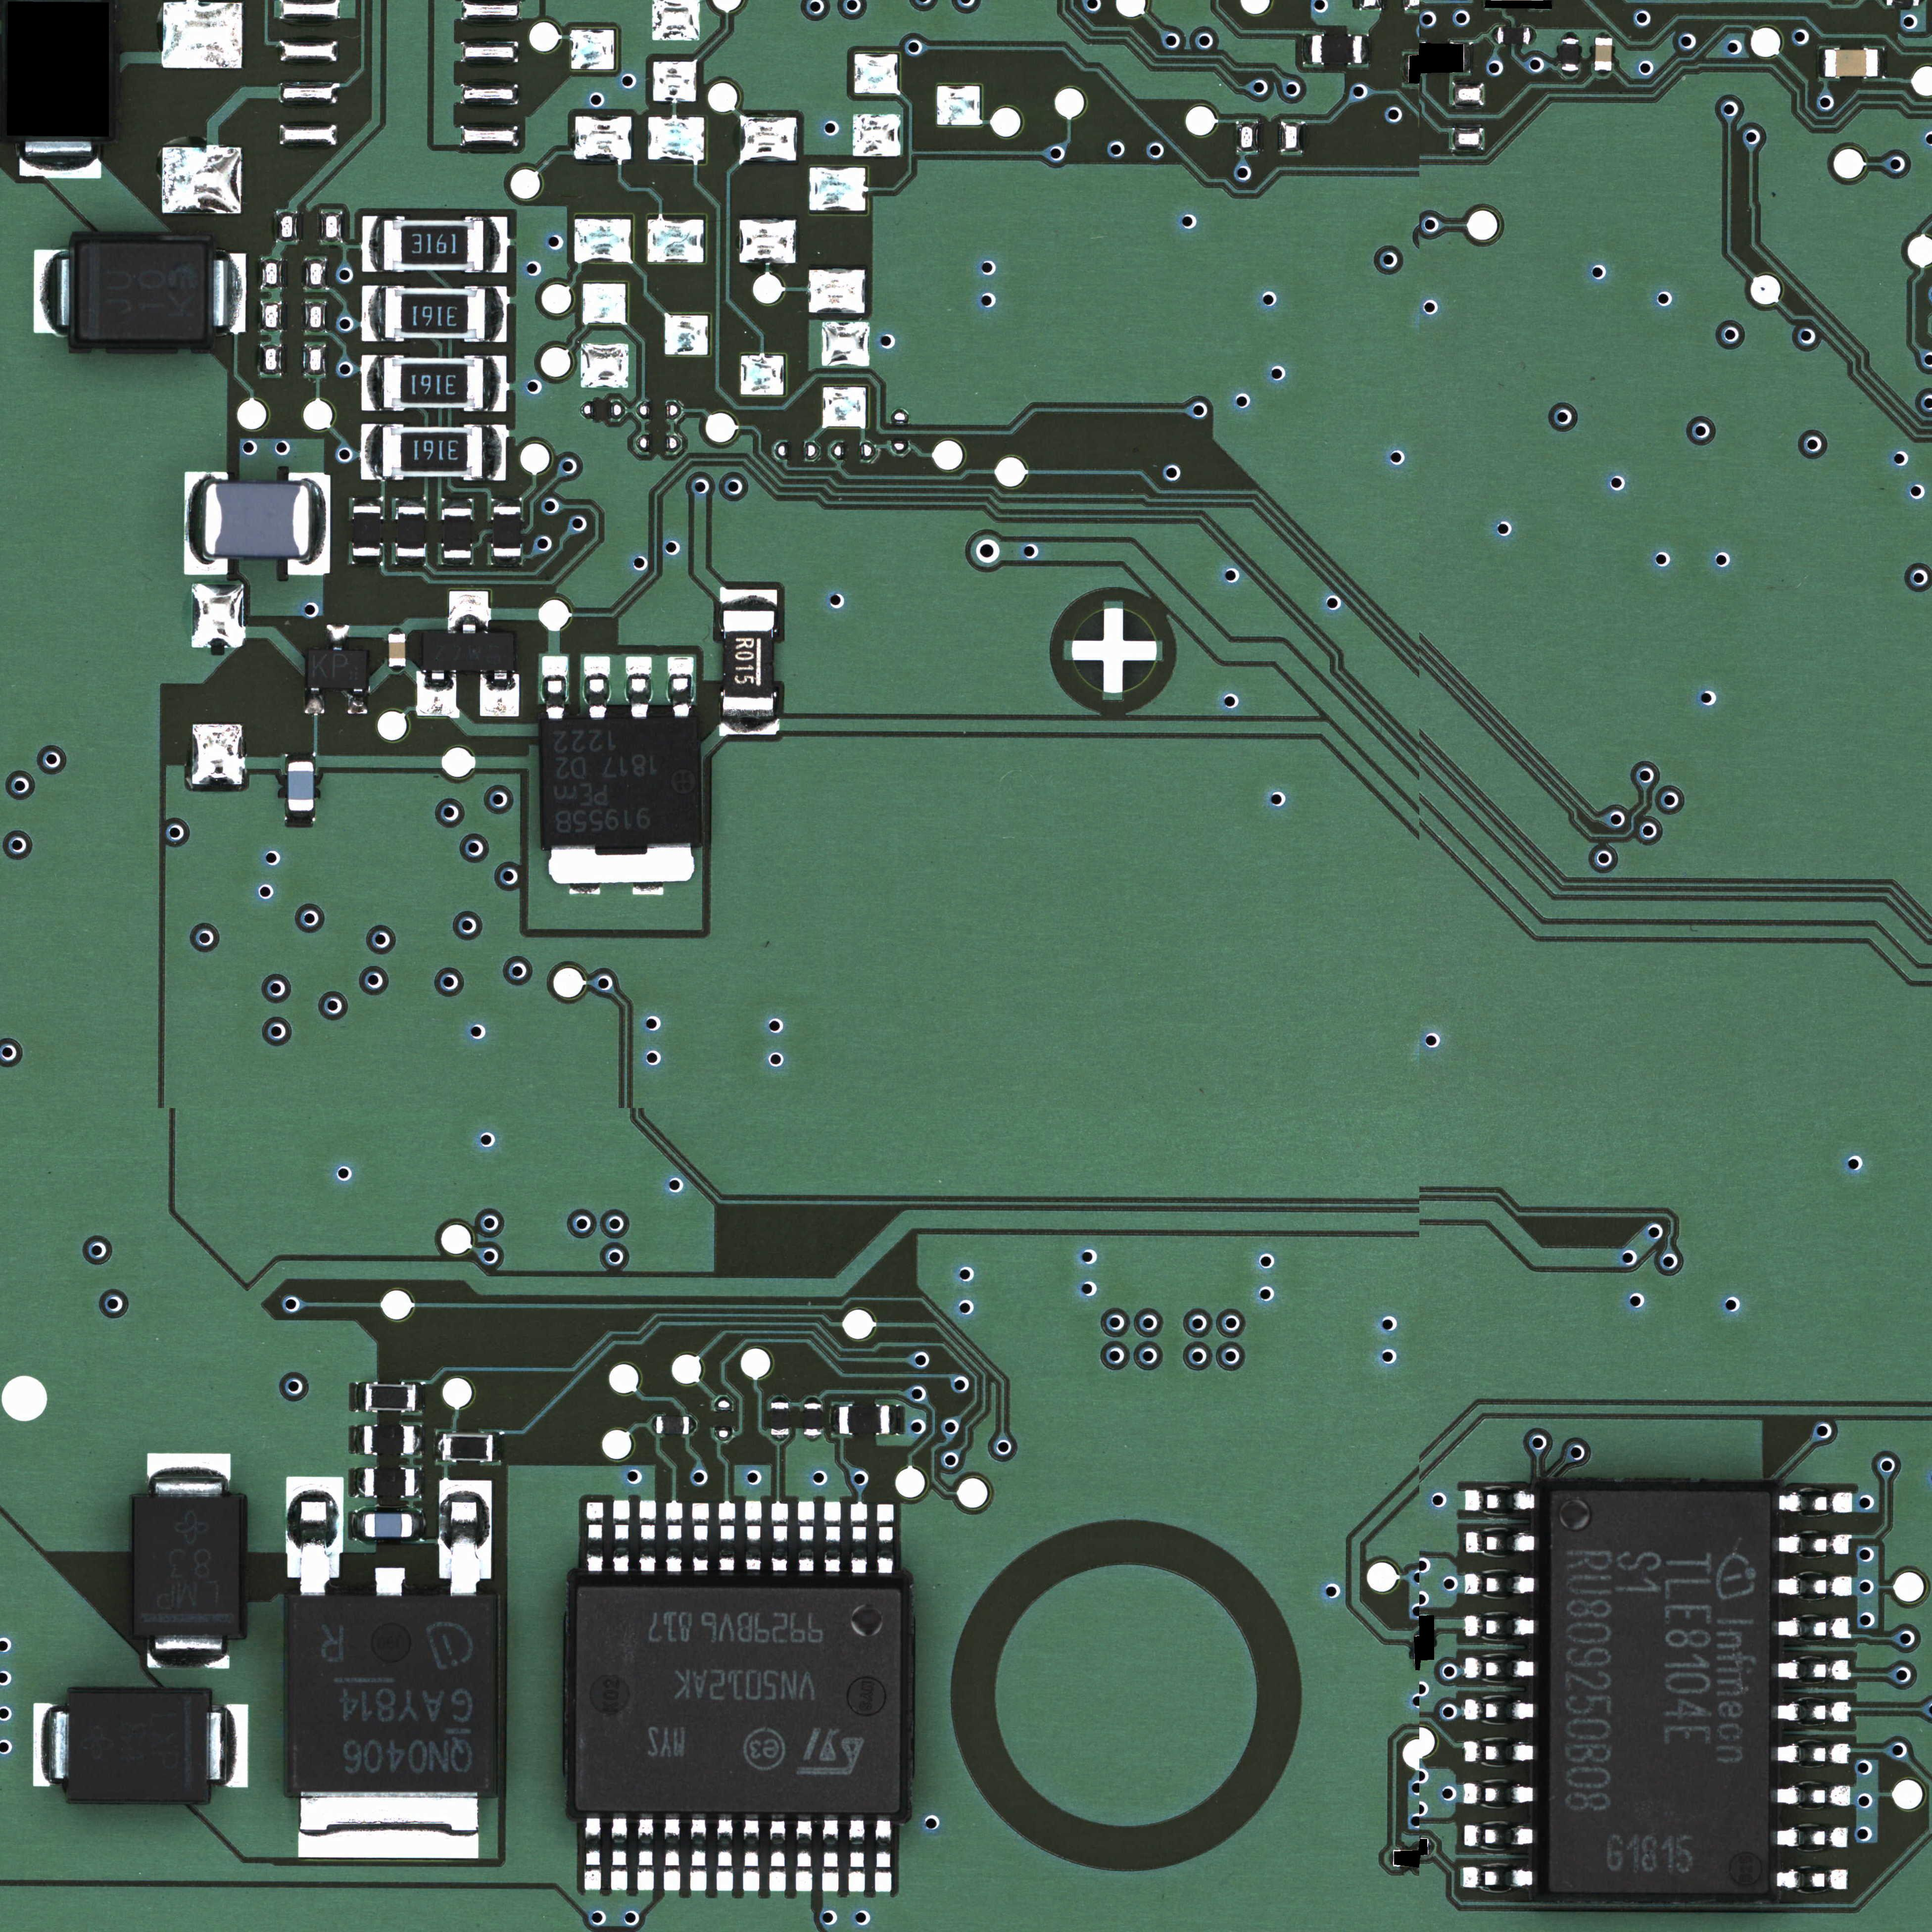Package: (1550, 1491, 1771, 1895), (575, 1587, 901, 1813), (288, 1595, 494, 1791), (542, 720, 699, 843), (69, 1692, 207, 1799), (133, 1497, 240, 1634), (77, 243, 206, 341), (204, 483, 311, 557), (384, 220, 484, 271), (385, 289, 485, 339), (383, 427, 483, 478), (724, 612, 773, 712), (384, 359, 483, 408), (423, 632, 514, 670), (308, 651, 366, 686), (839, 1405, 890, 1434), (397, 506, 426, 557), (1825, 49, 1878, 77), (1311, 36, 1362, 64), (364, 1426, 415, 1454), (493, 506, 522, 557), (363, 1469, 415, 1497), (444, 508, 472, 558), (353, 506, 381, 556), (365, 1385, 416, 1410), (442, 1436, 492, 1461), (289, 762, 314, 811), (365, 1514, 412, 1538), (1594, 37, 1612, 71), (656, 1416, 689, 1434), (771, 1402, 789, 1435), (1497, 28, 1531, 45), (388, 634, 406, 667), (1562, 38, 1579, 71), (805, 1403, 822, 1435)
Solder: (298, 1791, 478, 1858), (548, 842, 694, 895), (286, 1477, 342, 1595), (439, 1480, 490, 1594), (34, 248, 77, 333), (147, 1453, 231, 1497), (207, 1704, 248, 1787), (206, 253, 246, 334), (19, 142, 101, 179), (34, 1703, 69, 1788), (147, 1635, 229, 1669), (309, 473, 330, 574), (416, 669, 459, 716), (481, 670, 520, 716), (1778, 1658, 1852, 1682), (541, 657, 569, 720), (186, 471, 202, 575), (1464, 1697, 1535, 1722), (1777, 1700, 1851, 1724), (1777, 1742, 1851, 1765), (1778, 1575, 1853, 1598), (449, 591, 489, 633), (1463, 1489, 1535, 1512), (1462, 1783, 1535, 1806), (1465, 1530, 1536, 1554), (1464, 1824, 1535, 1847), (1778, 1617, 1852, 1640), (583, 657, 609, 721), (1462, 1866, 1534, 1889), (1464, 1656, 1535, 1680), (1777, 1868, 1848, 1891), (1777, 1827, 1849, 1849), (1776, 1785, 1851, 1807), (1779, 1492, 1854, 1513), (1464, 1573, 1536, 1595), (1464, 1615, 1536, 1638), (1779, 1535, 1851, 1556), (626, 657, 651, 720), (669, 658, 694, 720), (1464, 1741, 1535, 1763), (483, 426, 507, 481), (484, 356, 507, 412), (485, 218, 508, 273), (796, 1821, 813, 1895), (584, 1819, 601, 1894), (690, 1819, 706, 1894), (664, 1819, 680, 1894), (849, 1820, 865, 1895), (638, 1819, 654, 1894), (743, 1820, 759, 1895), (875, 1820, 891, 1895), (720, 589, 778, 610), (877, 1505, 894, 1575), (850, 1502, 867, 1572), (666, 1501, 682, 1573), (362, 287, 384, 341), (614, 1499, 629, 1573), (719, 717, 779, 736), (586, 1501, 603, 1573), (362, 355, 383, 411), (361, 424, 382, 480), (640, 1500, 656, 1573), (717, 1819, 732, 1894), (612, 1818, 627, 1893), (823, 1820, 838, 1894), (770, 1821, 785, 1894), (798, 1501, 814, 1573), (486, 287, 507, 342), (362, 217, 383, 272), (825, 1501, 840, 1574), (692, 1503, 708, 1572), (746, 1501, 761, 1571), (772, 1502, 787, 1572), (720, 1502, 734, 1572), (376, 1568, 404, 1595), (347, 687, 368, 714), (305, 687, 325, 714), (329, 627, 346, 651), (412, 1509, 423, 1542), (353, 1510, 364, 1540), (286, 812, 316, 822), (890, 1405, 901, 1434), (416, 1383, 425, 1412), (1302, 35, 1311, 65), (355, 1382, 365, 1412), (442, 498, 473, 507), (394, 557, 427, 565), (286, 753, 316, 762), (1400, 53, 1409, 84), (351, 556, 383, 565), (354, 1426, 363, 1454), (1362, 37, 1371, 66), (1464, 42, 1473, 73), (355, 1468, 364, 1497), (415, 1426, 424, 1455), (490, 557, 522, 565), (491, 498, 522, 506), (1815, 48, 1823, 79), (395, 498, 426, 506), (1879, 47, 1886, 77), (415, 1467, 423, 1497), (494, 1434, 502, 1464), (831, 1403, 839, 1435), (352, 498, 383, 505), (435, 1431, 443, 1461), (442, 558, 473, 565), (771, 1395, 789, 1402), (804, 1395, 821, 1403), (689, 1416, 696, 1435), (388, 667, 407, 674), (1594, 70, 1614, 76), (1429, 1838, 1435, 1855), (771, 1435, 789, 1441), (804, 1435, 821, 1441), (651, 1416, 657, 1434), (1563, 32, 1578, 39), (388, 628, 404, 634), (1563, 72, 1578, 79), (1388, 1849, 1393, 1867), (1594, 34, 1612, 38), (1531, 29, 1535, 43), (1493, 29, 1497, 41)
